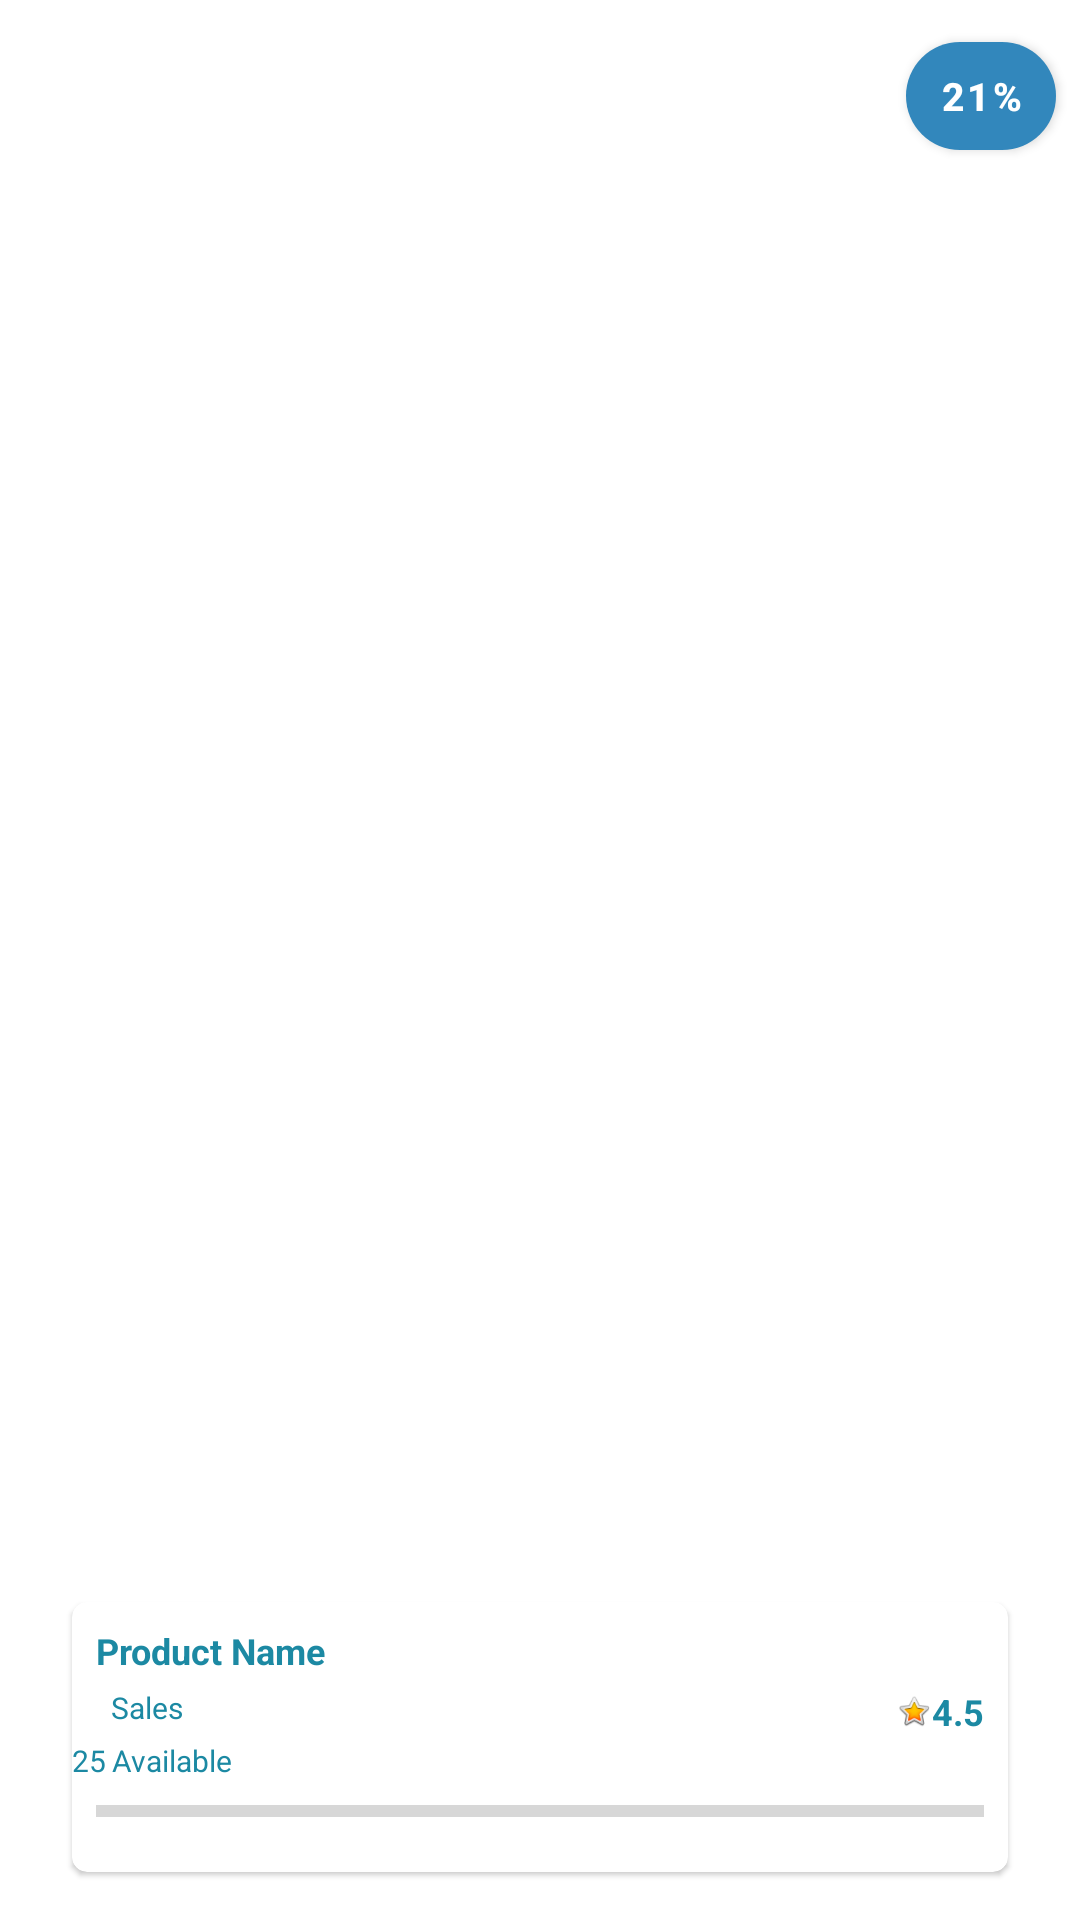

Icon bounding boxes for this 1080 × 1920 phone screenshot, format (x1, y1, x2, y2):
star on: (899, 1697, 929, 1726)
